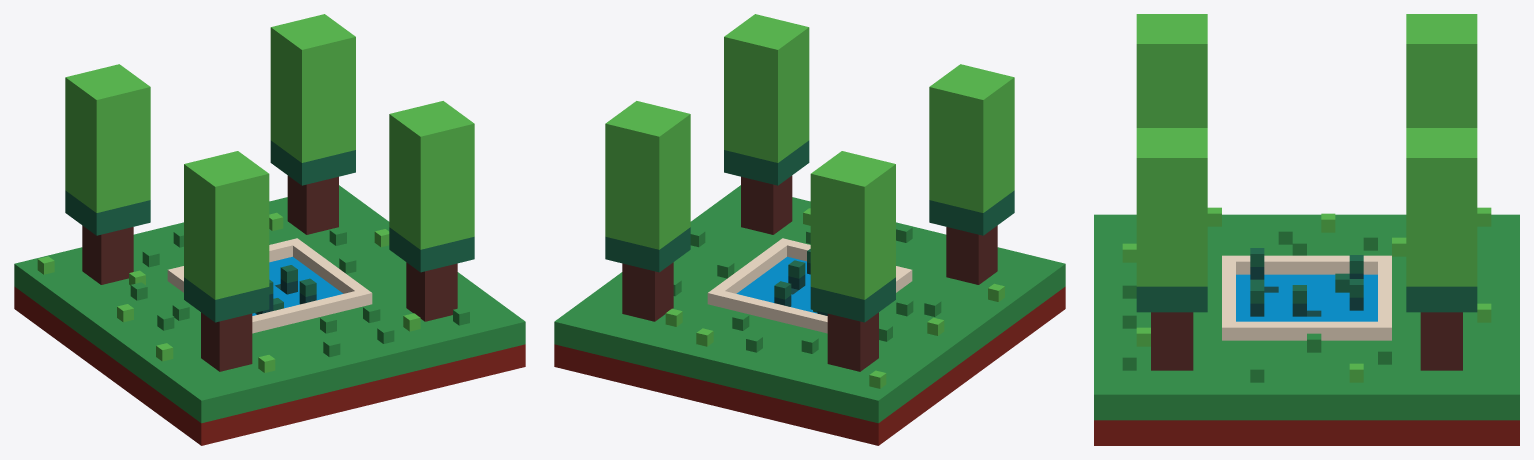
The model's file is Grass_Water.obj.
3 renders of one model, left to right at view 1: azimuth 30°, elevation 25°; view 2: azimuth 150°, elevation 25°; view 3: azimuth 270°, elevation 25°, orthographic. The views are drawn at different scales.
Size of the model in its own units: 3 by 2.1 by 3.
1 material, 1 textured.
